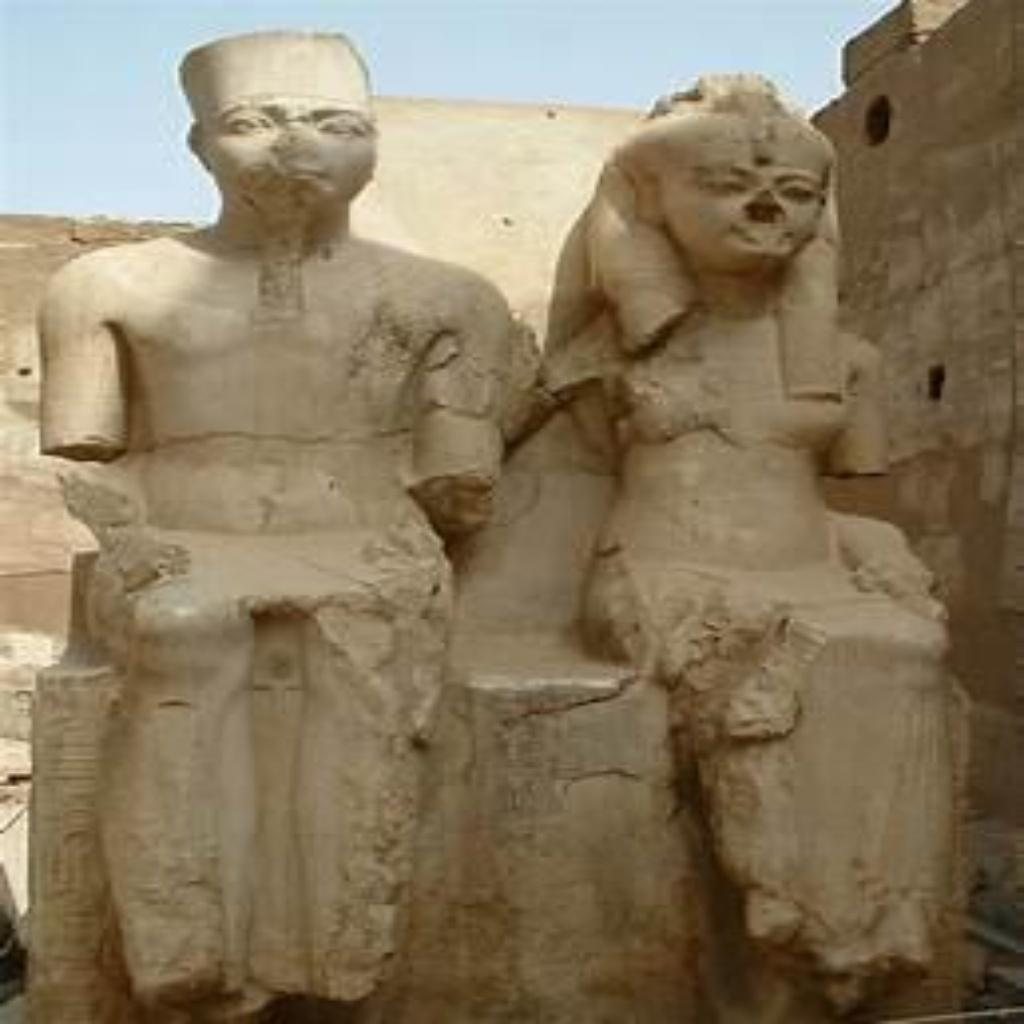Statue of Ankhesenamun: (525, 68, 961, 986)
Statue of Tutankhamun: (38, 24, 506, 999)
